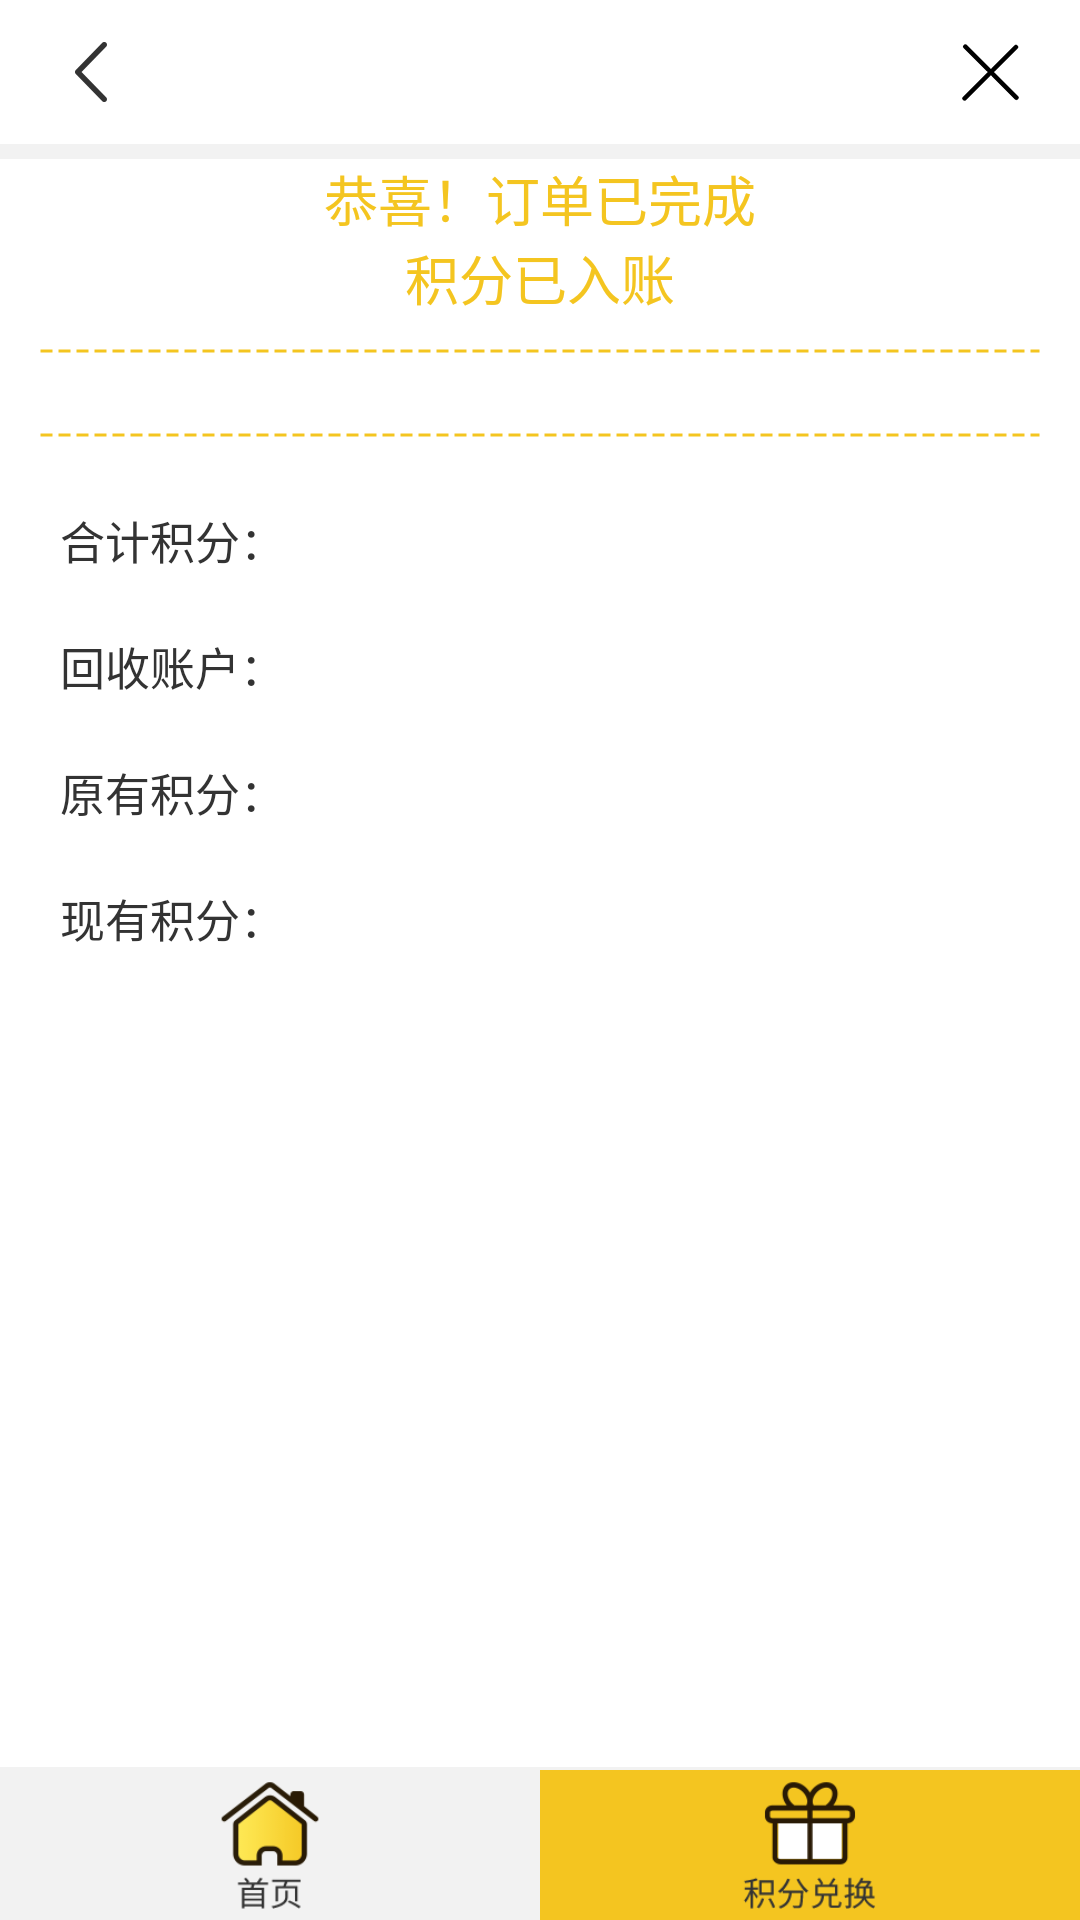

Screen size 1080x1920. Icon name, then its center in pixels as (x,y):
上一步: (91,72)
